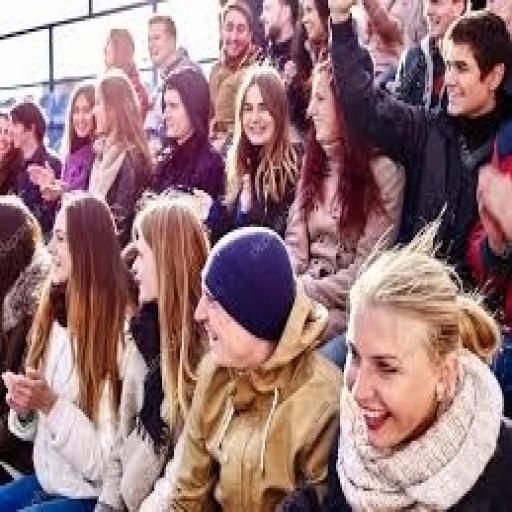clapping: (0, 142, 190, 494)
